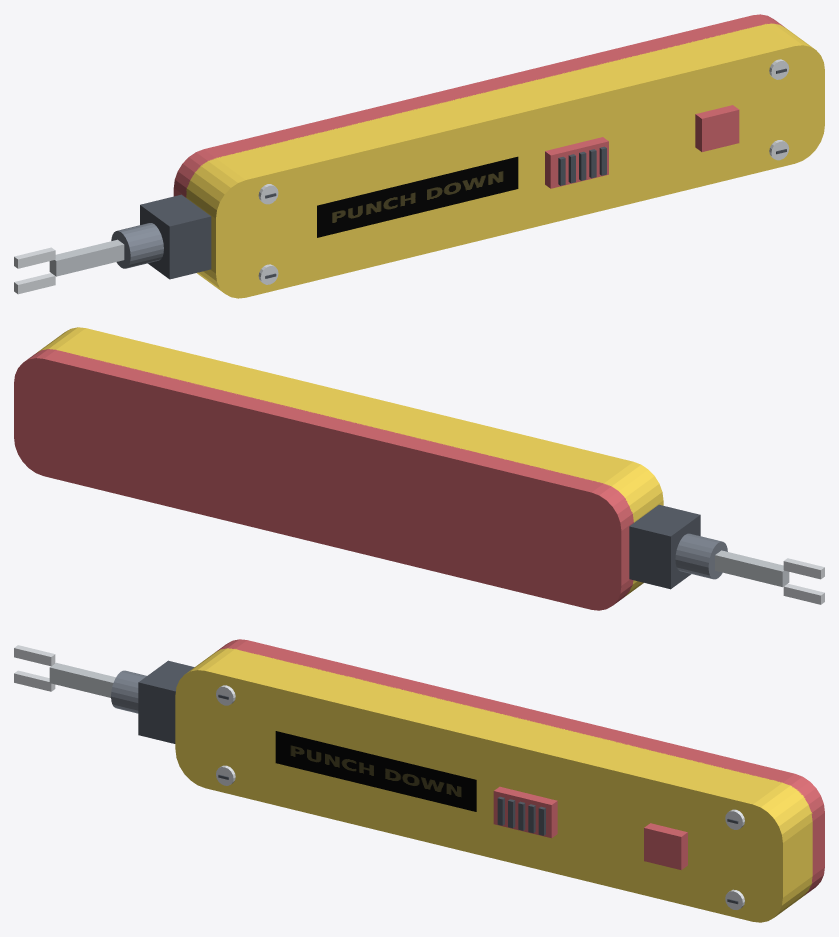
The model's file is punchdown.glb.
3 renders of one model, top to bottom at view 1: azimuth 30°, elevation 25°; view 2: azimuth 150°, elevation 25°; view 3: azimuth 330°, elevation 25°, orthographic.
Parts seen in each view (by area): view 1: 02_Pemegang_Kuning, 01_Cangkang_Bawah_Merah, 14_Teks_PUNCH_DOWN, 04_Collar_Hitam_Pangkal_Bilah, 11_Butang_Keselamatan, 05_Tiub_Logam_Bilah, 06_Tiang_Pemotong_IDC, 09_Pemilih_Tekanan_Merah, 07_Cabang_Pemotong_Atas, 08_Cabang_Pemotong_Bawah; view 2: 01_Cangkang_Bawah_Merah, 02_Pemegang_Kuning, 04_Collar_Hitam_Pangkal_Bilah, 05_Tiub_Logam_Bilah, 06_Tiang_Pemotong_IDC, 07_Cabang_Pemotong_Atas, 08_Cabang_Pemotong_Bawah; view 3: 02_Pemegang_Kuning, 01_Cangkang_Bawah_Merah, 14_Teks_PUNCH_DOWN, 04_Collar_Hitam_Pangkal_Bilah, 11_Butang_Keselamatan, 09_Pemilih_Tekanan_Merah, 06_Tiang_Pemotong_IDC, 05_Tiub_Logam_Bilah, 07_Cabang_Pemotong_Atas, 08_Cabang_Pemotong_Bawah.
Boxes of the visible parts, <box> form: 02_Pemegang_Kuning: <box>186,23,824,298</box>; 01_Cangkang_Bawah_Merah: <box>173,14,784,197</box>; 14_Teks_PUNCH_DOWN: <box>317,156,518,237</box>; 04_Collar_Hitam_Pangkal_Bilah: <box>140,194,211,279</box>; 11_Butang_Keselamatan: <box>695,105,739,151</box>; 05_Tiub_Logam_Bilah: <box>111,223,163,268</box>; 06_Tiang_Pemotong_IDC: <box>49,239,124,276</box>; 09_Pemilih_Tekanan_Merah: <box>545,137,608,188</box>; 07_Cabang_Pemotong_Atas: <box>14,247,55,268</box>; 08_Cabang_Pemotong_Bawah: <box>14,273,55,294</box>; 01_Cangkang_Bawah_Merah: <box>14,349,633,610</box>; 02_Pemegang_Kuning: <box>37,327,663,596</box>; 04_Collar_Hitam_Pangkal_Bilah: <box>629,504,700,589</box>; 05_Tiub_Logam_Bilah: <box>675,533,727,579</box>; 06_Tiang_Pemotong_IDC: <box>715,550,789,587</box>; 07_Cabang_Pemotong_Atas: <box>783,558,824,579</box>; 08_Cabang_Pemotong_Bawah: <box>783,583,824,604</box>; 02_Pemegang_Kuning: <box>175,648,812,922</box>; 01_Cangkang_Bawah_Merah: <box>216,639,824,895</box>; 14_Teks_PUNCH_DOWN: <box>275,731,476,811</box>; 04_Collar_Hitam_Pangkal_Bilah: <box>138,660,194,743</box>; 11_Butang_Keselamatan: <box>644,823,687,869</box>; 09_Pemilih_Tekanan_Merah: <box>493,786,557,838</box>; 06_Tiang_Pemotong_IDC: <box>49,662,115,697</box>; 05_Tiub_Logam_Bilah: <box>111,670,146,713</box>; 07_Cabang_Pemotong_Atas: <box>14,645,55,666</box>; 08_Cabang_Pemotong_Bawah: <box>14,670,55,691</box>.
Bounding box in the file's own units: 8.42 × 1.2 × 0.98.
7 materials, 1 textured.
